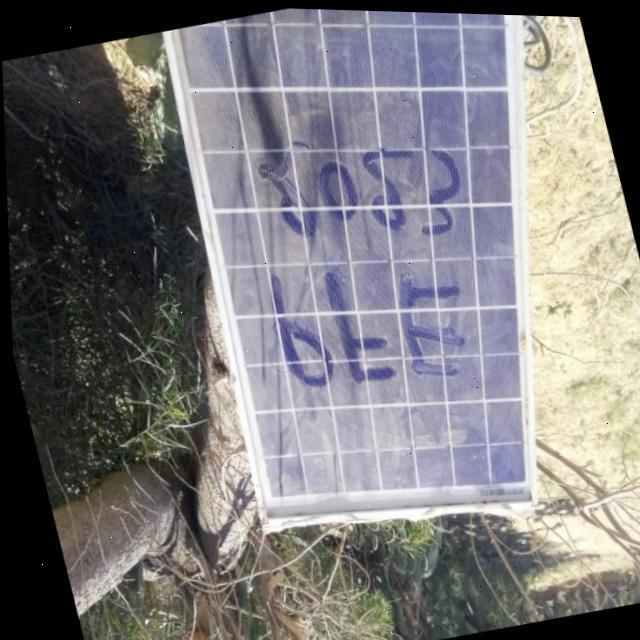Anomaly Solar Panel: (169, 7, 524, 519)
Surface Contaminant: (168, 51, 518, 517), (170, 4, 414, 105)
